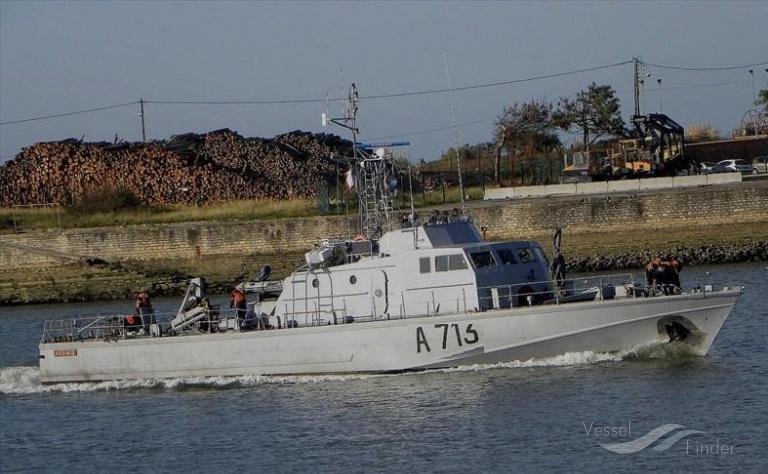OCR: (401, 324, 484, 363)
